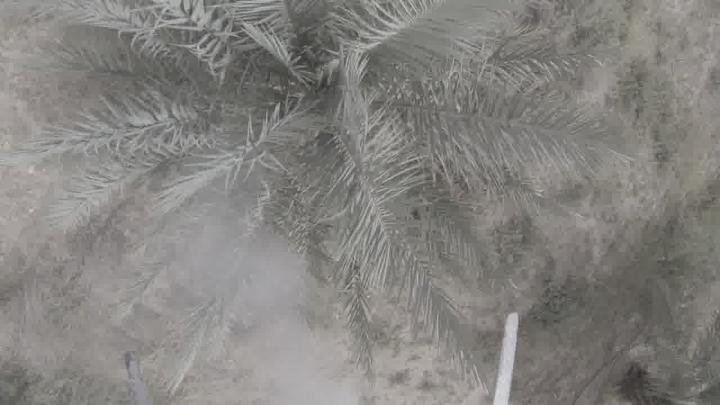Date-Palm-Crown: (154, 0, 450, 250)
